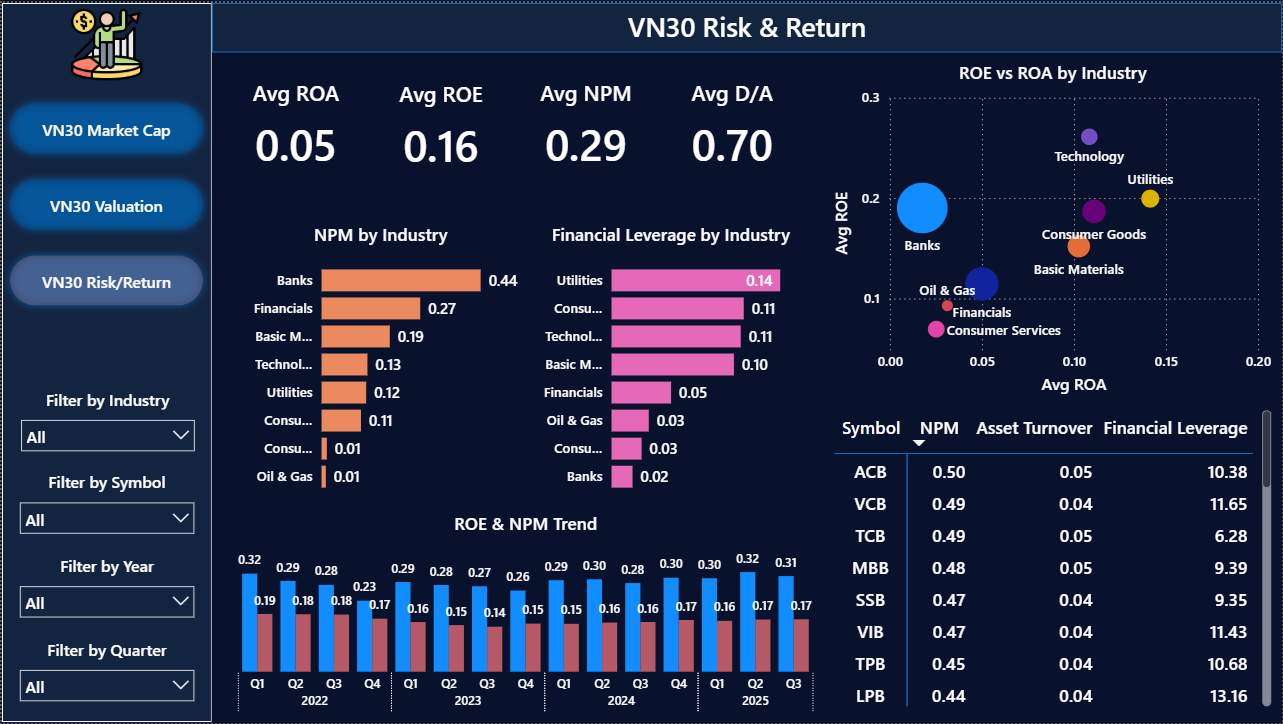

The page's visual inventory and layout, read from the dashboard file:
{"tool":"powerbi","page":{"name":"VN30 Risk/Return","canvas":[1280,720],"ordinal":2},"visuals":[{"type":"group","id":"g1","title":"Group 1","box":[0,0,209.9,719],"z":0,"group":"g3"},{"type":"shape","title":"Shape","box":[0,0,209.9,719],"z":0,"group":"g1"},{"type":"shape","title":"Shape","box":[209.9,0,1070.1,49.5],"z":0,"group":"g2"},{"type":"scatterChart","title":"ROE vs ROA by Industry","fields":{"Size":["fact_quarterly_ratio.Total Market Capital"],"Series":["dim_company.en_icb_name"],"Y":["fact_quarterly_ratio.Avg ROE"],"X":["fact_quarterly_ratio.Avg ROA"]},"box":[827.5,57.5,446.8,339],"z":0},{"type":"image","box":[0,0,209.7,83.3],"z":1000,"group":"g3"},{"type":"textbox","box":[209.9,0,1070.1,49.5],"z":1000,"group":"g2"},{"type":"card","title":"Avg ROA","fields":{"Values":["fact_quarterly_ratio.Avg ROA"]},"box":[234.2,74.7,120.7,102],"z":1000},{"type":"slicer","title":"Filter by Quarter","fields":{"Values":["dim_date.quarter"]},"box":[8,634.7,195.1,73.5],"z":1000,"group":"g1"},{"type":"group","id":"g2","title":"Group 2","box":[209.9,0,1070.1,49.5],"z":2000},{"type":"pageNavigator","box":[0,91.9,209.7,218.4],"z":2000,"group":"g3"},{"type":"slicer","title":"Filter by Year","fields":{"Values":["dim_date.year"]},"box":[8,551.4,195.1,73.5],"z":2000,"group":"g1"},{"type":"slicer","title":"Filter by Symbol","fields":{"Values":["dim_company.symbol"]},"box":[8,468.1,195.1,73.5],"z":3000,"group":"g1"},{"type":"clusteredColumnChart","title":"ROE & NPM Trend","fields":{"Category":["dim_date.year","dim_date.quarter"],"Y":["fact_quarterly_ratio.Avg Net Profit Margin","fact_quarterly_ratio.Avg ROE"]},"box":[219.8,508.6,607.7,211.2],"z":3000},{"type":"clusteredBarChart","title":"NPM by Industry","fields":{"Category":["dim_company.en_icb_name"],"Y":["fact_quarterly_ratio.Avg Net Profit Margin"]},"box":[234.2,219.8,290.2,281.6],"z":4000},{"type":"slicer","title":"Filter by Industry","fields":{"Values":["dim_company.en_icb_name"]},"box":[8.6,385,193.9,73.3],"z":4000,"group":"g1"},{"type":"pivotTable","title":"Valuation by Symbol","fields":{"Rows":["dim_company.symbol"],"Values":["fact_quarterly_ratio.Avg Net Profit Margin","fact_quarterly_ratio.Avg Asset Turnover","fact_quarterly_ratio.Avg Financial Leverage"]},"box":[827.5,402.2,446.8,306],"z":5000},{"type":"clusteredBarChart","title":"Financial Leverage by Industry","fields":{"Category":["dim_company.en_icb_name"],"Y":["fact_quarterly_ratio.Avg ROA"]},"box":[524.4,219.8,290.2,281.6],"z":6000},{"type":"card","title":"Avg ROE","fields":{"Values":["fact_quarterly_ratio.Avg ROE"]},"box":[379.3,76.1,120.7,102],"z":7000},{"type":"card","title":"Avg NPM","fields":{"Values":["fact_quarterly_ratio.Avg Net Profit Margin"]},"box":[524.4,74.7,120.7,102],"z":8000},{"type":"card","title":"Avg D/A","fields":{"Values":["fact_quarterly_ratio.Avg D/A"]},"box":[669.5,74.7,120.7,102],"z":9000},{"type":"group","id":"g3","title":"Group 3","box":[0,0,209.9,719],"z":10000}]}

Visuals, with their boxes in screenshot pixels (x1, y1, x2, y2), scaled from the page's 1280x720 canvas onto the 1283x724 screenshot:
"Group 1" group: {"left": 0, "top": 0, "right": 210, "bottom": 723}
"Shape" shape: {"left": 0, "top": 0, "right": 210, "bottom": 723}
"Shape" shape: {"left": 210, "top": 0, "right": 1282, "bottom": 50}
"ROE vs ROA by Industry" scatterChart: {"left": 829, "top": 58, "right": 1277, "bottom": 399}
image: {"left": 0, "top": 0, "right": 210, "bottom": 84}
textbox: {"left": 210, "top": 0, "right": 1282, "bottom": 50}
"Avg ROA" card: {"left": 235, "top": 75, "right": 356, "bottom": 178}
"Filter by Quarter" slicer: {"left": 8, "top": 638, "right": 204, "bottom": 712}
"Group 2" group: {"left": 210, "top": 0, "right": 1282, "bottom": 50}
pageNavigator: {"left": 0, "top": 92, "right": 210, "bottom": 312}
"Filter by Year" slicer: {"left": 8, "top": 554, "right": 204, "bottom": 628}
"Filter by Symbol" slicer: {"left": 8, "top": 471, "right": 204, "bottom": 545}
"ROE & NPM Trend" clusteredColumnChart: {"left": 220, "top": 511, "right": 829, "bottom": 723}
"NPM by Industry" clusteredBarChart: {"left": 235, "top": 221, "right": 526, "bottom": 504}
"Filter by Industry" slicer: {"left": 9, "top": 387, "right": 203, "bottom": 461}
"Valuation by Symbol" pivotTable: {"left": 829, "top": 404, "right": 1277, "bottom": 712}
"Financial Leverage by Industry" clusteredBarChart: {"left": 526, "top": 221, "right": 817, "bottom": 504}
"Avg ROE" card: {"left": 380, "top": 77, "right": 501, "bottom": 179}
"Avg NPM" card: {"left": 526, "top": 75, "right": 647, "bottom": 178}
"Avg D/A" card: {"left": 671, "top": 75, "right": 792, "bottom": 178}
"Group 3" group: {"left": 0, "top": 0, "right": 210, "bottom": 723}
